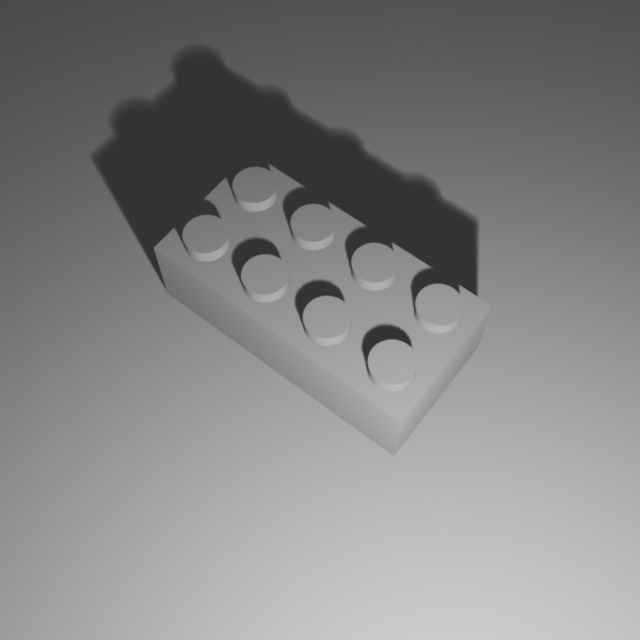lego_2x4: (151, 144, 495, 456)
